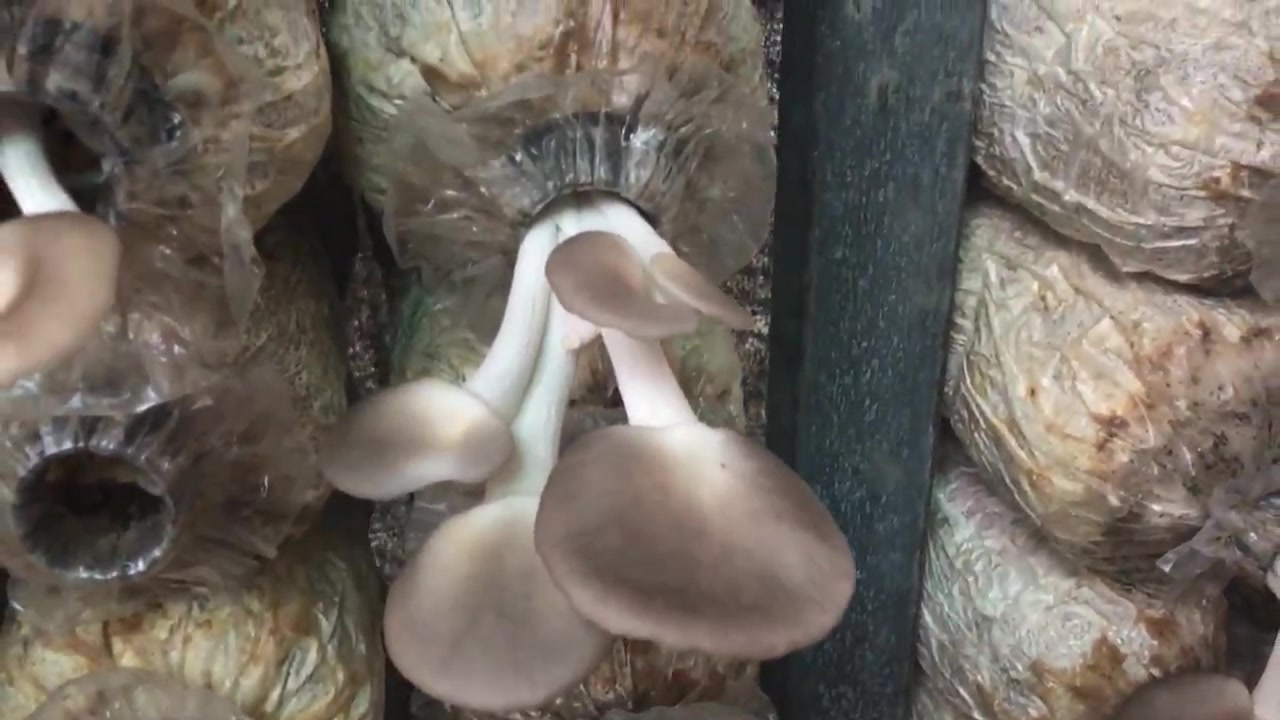nam: (325, 135, 847, 711), (1, 18, 131, 377)
